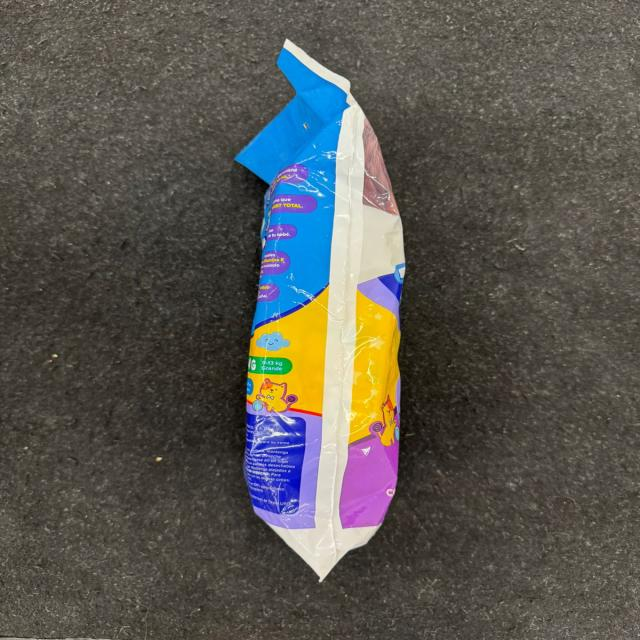Panales Tikytin 14pz T5: (240, 36, 402, 576)
